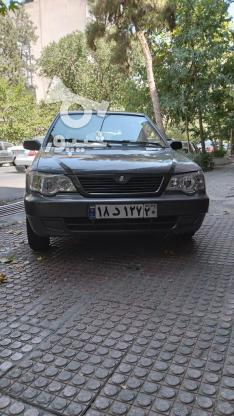car: (86, 203, 156, 219)
